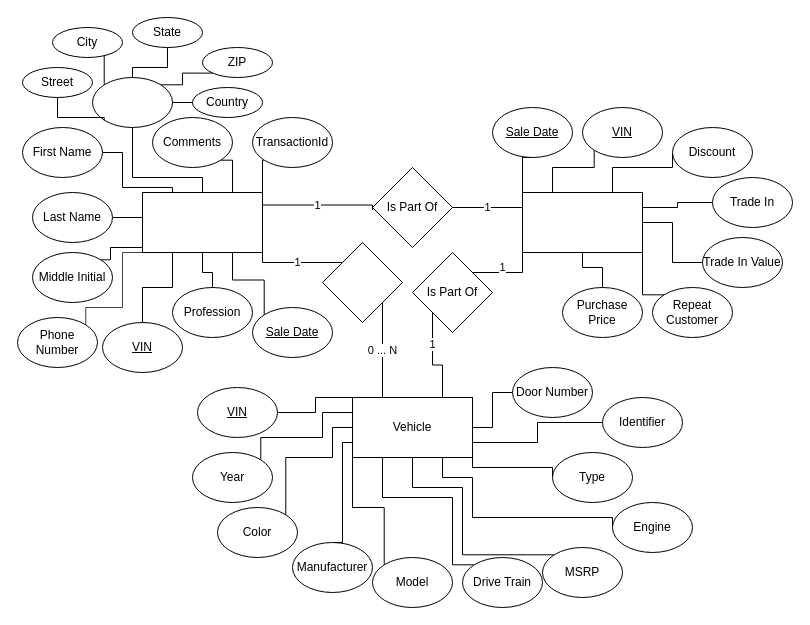
Image size: 810x625. Some labels were removed from this diagram. Here are the shapes that lost their labels. From the top down, the centre of each, then its label:
point 132,102: Address
point 202,222: Customer
point 582,222: Sale
point 362,282: Has
